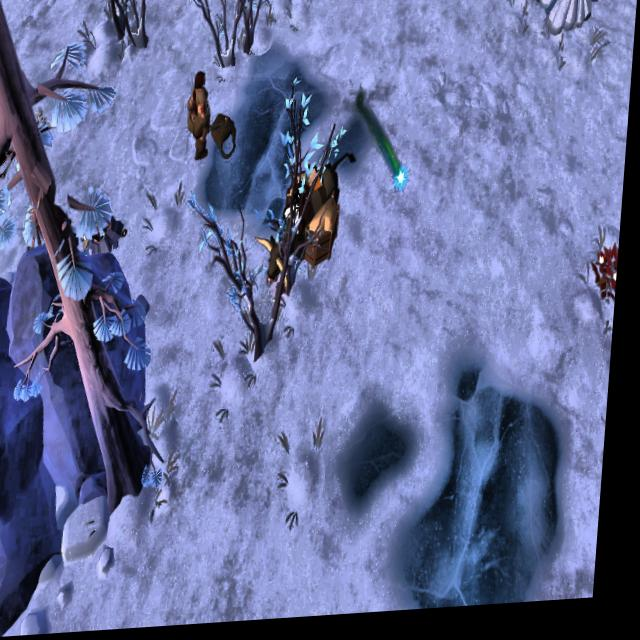enemy_factionKeeper: (184, 74, 220, 166)
fiber_t5: (593, 249, 624, 311)
